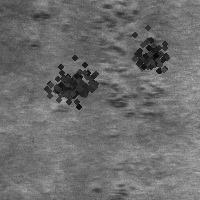rolled-in_scale: (73, 60, 163, 127), (59, 1, 158, 58), (120, 26, 176, 82), (49, 53, 103, 107), (2, 3, 52, 53), (89, 162, 139, 199), (43, 66, 83, 106)
